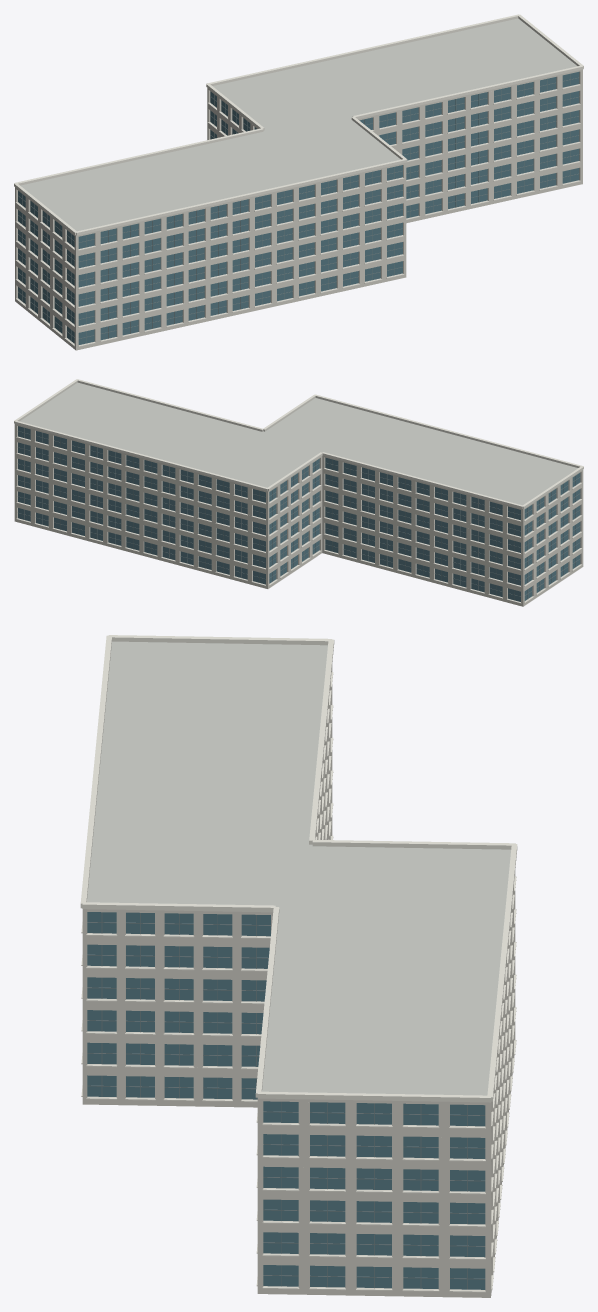
The picture shows the model from 3 angles, top to bottom: view 1: azimuth 30°, elevation 25°; view 2: azimuth 150°, elevation 25°; view 3: azimuth 270°, elevation 25°; orthographic projection. The views are drawn at different scales.
Parts seen in each view (by area): view 1: wall, roof, glass, trim, metal; view 2: wall, glass, roof, trim, metal; view 3: roof, wall, glass, trim, metal.
Boxes of the visible parts, <box> form: wall: <box>15,69,582,350</box>; roof: <box>21,18,577,231</box>; glass: <box>18,72,579,344</box>; trim: <box>14,14,583,346</box>; metal: <box>18,74,579,343</box>; wall: <box>14,424,583,606</box>; glass: <box>18,426,580,601</box>; roof: <box>20,382,577,505</box>; trim: <box>14,379,583,603</box>; metal: <box>18,428,580,600</box>; roof: <box>87,641,510,1095</box>; wall: <box>82,665,515,1297</box>; glass: <box>87,912,485,1289</box>; trim: <box>80,635,517,1292</box>; metal: <box>87,912,485,1289</box>.
Size of the model in its own units: 97.13 by 19.64 by 38.72.
